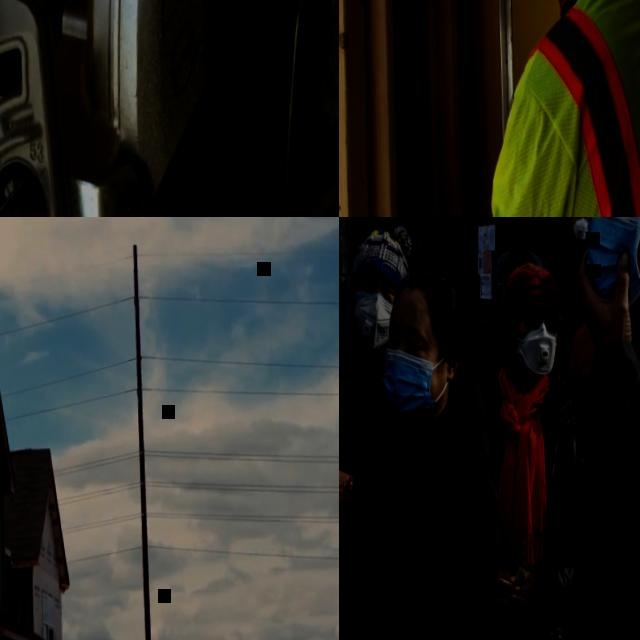Mask: (583, 217, 640, 315), (382, 347, 438, 425), (351, 289, 394, 351), (518, 324, 559, 382), (572, 217, 590, 243), (515, 238, 530, 255)
NO-Hardhat: (390, 271, 463, 336), (497, 262, 563, 320), (348, 225, 410, 284), (513, 217, 535, 229), (403, 217, 421, 226), (344, 238, 356, 251)
NO-Safety Vest: (549, 277, 640, 640), (341, 432, 488, 640), (469, 371, 580, 640), (339, 344, 393, 601), (559, 256, 585, 304), (346, 250, 357, 272), (411, 245, 421, 268)
Person: (402, 0, 640, 217), (339, 226, 422, 640), (401, 217, 426, 275), (346, 232, 357, 272)
Safety Vest: (461, 0, 640, 217)
